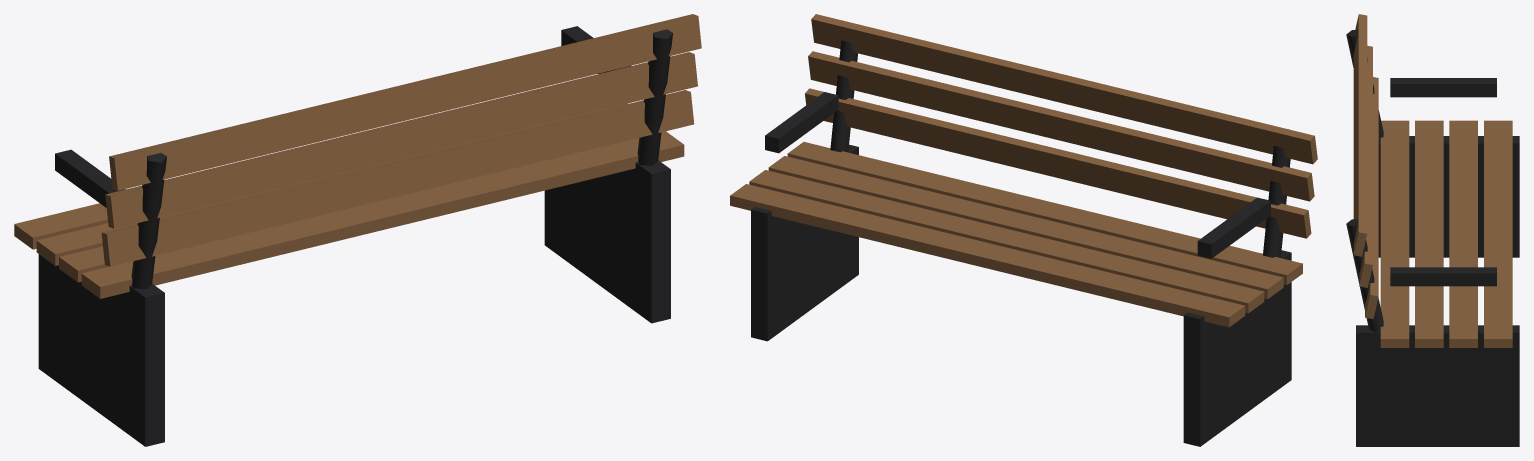
Rendered from BENCH.glb.
3 views of the same model, side by side, from view 1: azimuth 30°, elevation 25°; view 2: azimuth 150°, elevation 25°; view 3: azimuth 270°, elevation 25° (orthographic). The views are drawn at different scales.
Visible parts, largest first — view 1: wood_0, tread_1; view 2: wood_0, tread_1; view 3: wood_0, tread_1.
Part boxes in pixels (x1,y1,x2,y2): wood_0: [14, 14, 701, 298]; tread_1: [38, 26, 672, 446]; wood_0: [730, 14, 1317, 327]; tread_1: [751, 40, 1291, 446]; wood_0: [1353, 14, 1512, 347]; tread_1: [1346, 29, 1519, 446].
Size of the model in its own units: 1.8 by 0.8671 by 0.6044.
